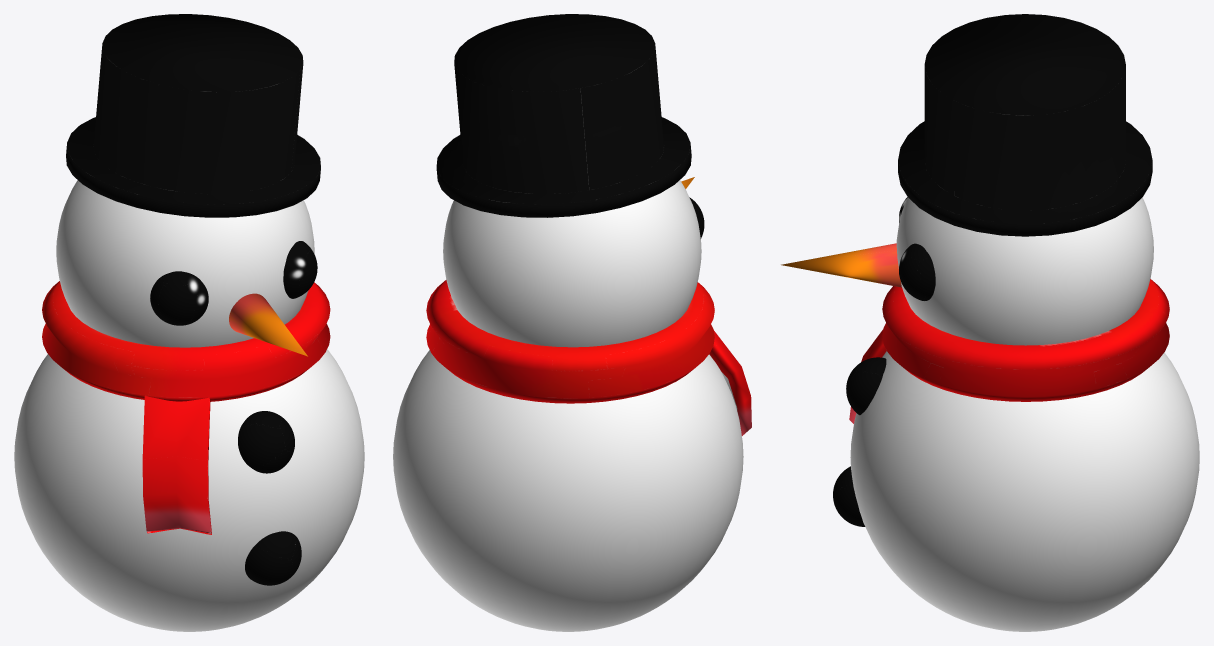
The model's file is SnowmanENEMY.fbx.
The picture shows the model from 3 angles, left to right: view 1: azimuth 30°, elevation 25°; view 2: azimuth 150°, elevation 25°; view 3: azimuth 270°, elevation 25°; orthographic projection.
Visible parts, largest first — view 1: Cube; view 2: Cube; view 3: Cube.
Boxes of the visible parts, x1,y1,x2,y2 form: Cube: (14, 14, 364, 631); Cube: (393, 14, 751, 631); Cube: (781, 14, 1199, 631).
Bounding box in the file's own units: 340 × 608 × 409.
